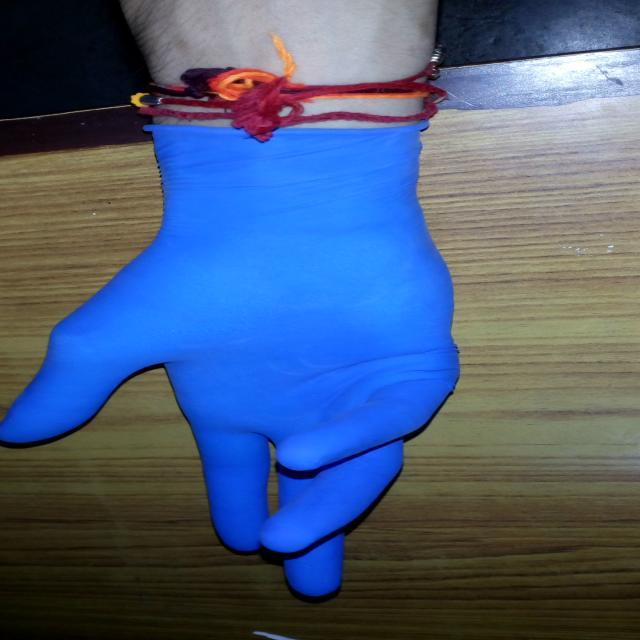gloved_hand: (0, 111, 465, 605)
